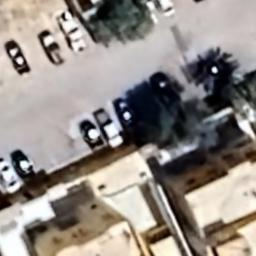pickup: (90, 106, 128, 151), (35, 30, 69, 68)
sedan: (57, 18, 93, 56), (1, 38, 34, 78), (150, 72, 182, 112), (8, 149, 40, 187), (76, 118, 108, 155), (113, 96, 141, 136), (0, 155, 21, 196), (152, 0, 181, 20)
